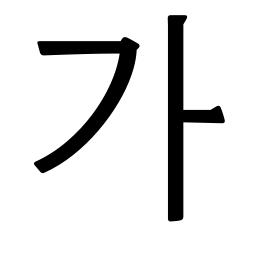Gaji: (151, 91, 203, 139)
